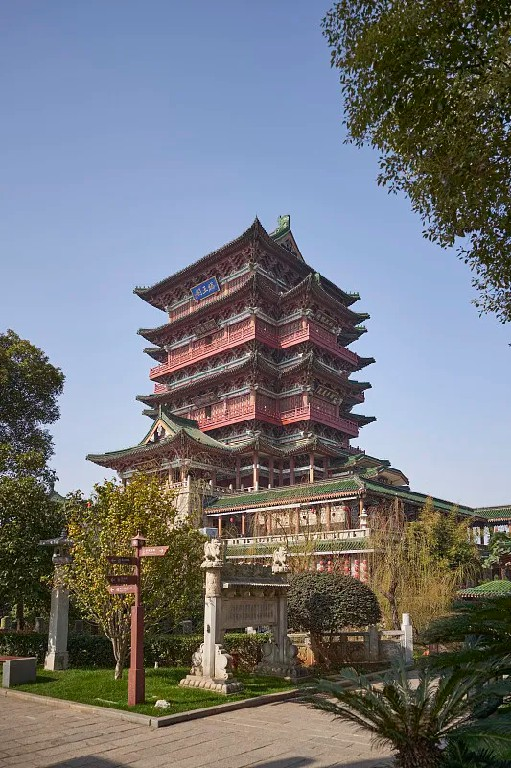Teng: (84, 215, 476, 531)
